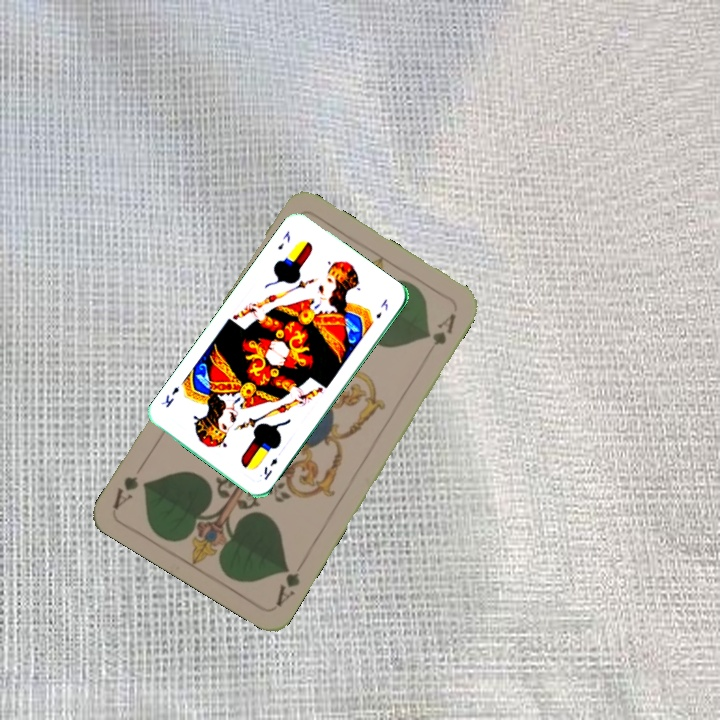EK: (260, 454, 280, 483), (273, 227, 293, 253)
GA: (271, 561, 303, 610)
